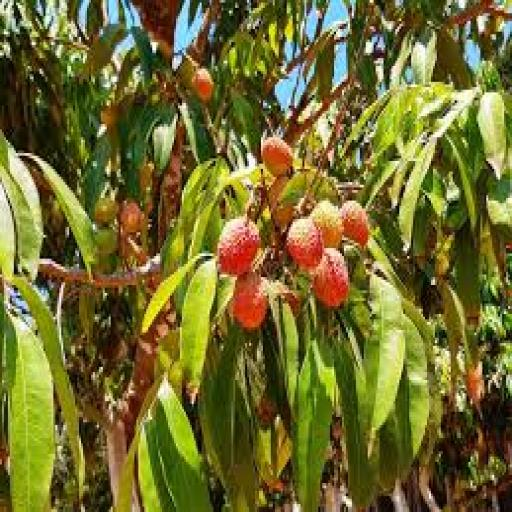lychee: (218, 217, 260, 274), (313, 249, 349, 308), (287, 217, 324, 269), (234, 272, 266, 329), (311, 201, 343, 248), (341, 201, 369, 245), (261, 138, 292, 176), (121, 201, 144, 234), (467, 362, 484, 406), (192, 69, 213, 102), (95, 198, 118, 224)
